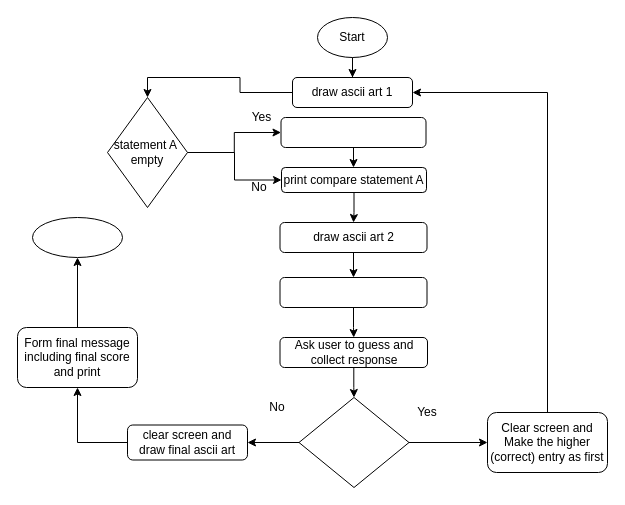
The diagram is 625 pixels wide and 505 high, and some of its shapes have lost their labels. The centre of each missing label's shape, as x and y in pixels:
End: point (77, 237)
Pick entry from list and form compare statement A: point (353, 132)
Pick entry from list and form compare statement B: point (353, 292)
user response correct: point (353, 442)
